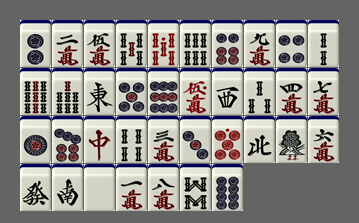0m: (180, 68, 211, 115)
0p: (212, 116, 243, 163)
0s: (148, 20, 179, 67)
1m: (116, 164, 147, 211)
1p: (20, 116, 51, 163)
1s: (276, 116, 307, 163)
1z: (84, 68, 115, 115)
2m: (52, 20, 83, 67)
2p: (20, 20, 51, 67)
2s: (308, 20, 339, 67)
2z: (52, 164, 83, 211)
3m: (148, 116, 179, 163)
3p: (180, 116, 211, 163)
3s: (244, 68, 275, 115)
3z: (212, 68, 243, 115)
4m: (276, 68, 307, 115)
4p: (276, 20, 307, 67)
4s: (116, 116, 147, 163)
4z: (244, 116, 275, 163)
5m: (84, 20, 115, 67)
5p: (116, 68, 147, 115)
5s: (116, 20, 147, 67)
5z: (84, 164, 115, 211)
6m: (308, 116, 339, 163)
6p: (212, 20, 243, 67)
6s: (180, 20, 211, 67)
6z: (20, 164, 51, 211)
7m: (308, 68, 339, 115)
7p: (52, 116, 83, 163)
7s: (52, 68, 83, 115)
7z: (84, 116, 115, 163)
8m: (148, 164, 179, 211)
8p: (212, 164, 243, 211)
8s: (180, 164, 211, 211)
9m: (244, 20, 275, 67)
9p: (148, 68, 179, 115)
9s: (20, 68, 51, 115)
